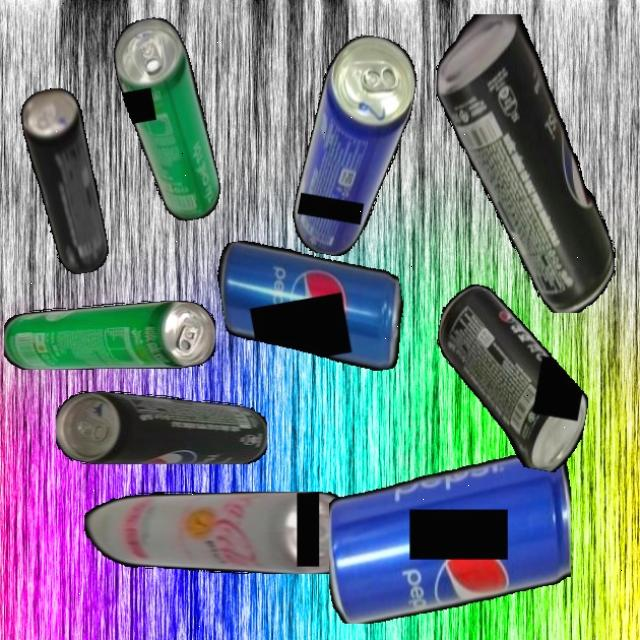debris: (434, 13, 616, 313), (328, 452, 571, 624), (418, 280, 604, 476), (212, 216, 414, 396), (288, 29, 422, 264), (108, 12, 224, 228), (84, 492, 352, 574), (17, 84, 112, 278), (56, 390, 267, 464), (3, 300, 215, 370)
